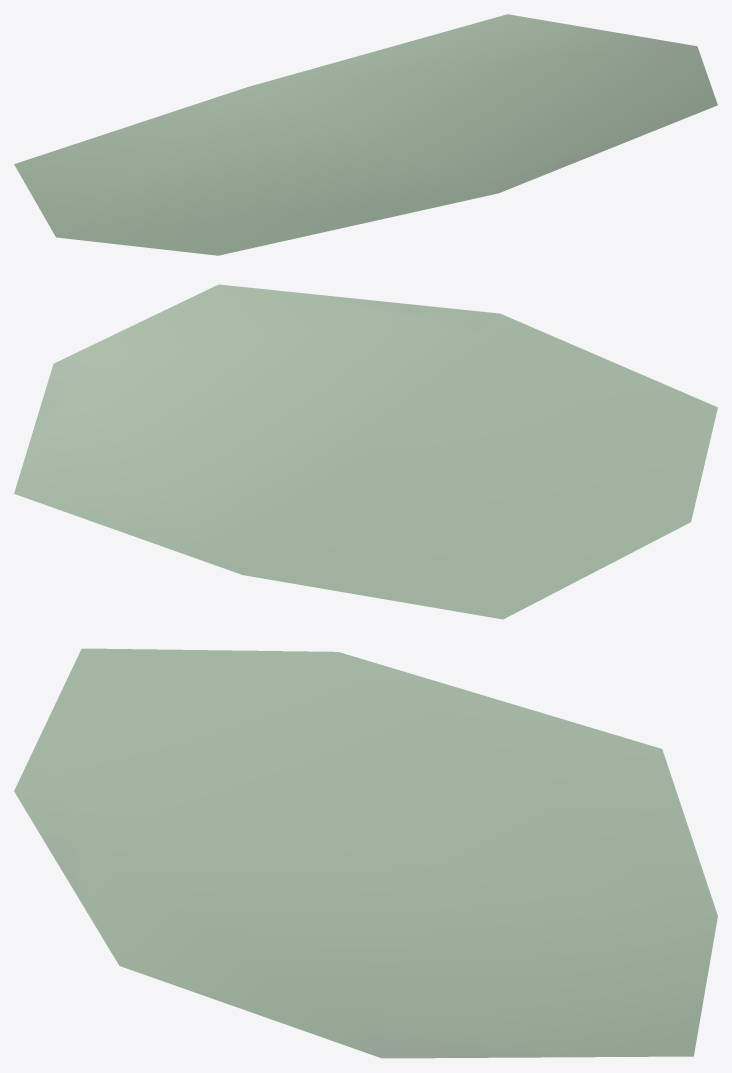
File: TROLLHOLE02_HOLECAP31.fbx
The picture shows the model from 3 angles, top to bottom: view 1: azimuth 30°, elevation 25°; view 2: azimuth 150°, elevation 25°; view 3: azimuth 270°, elevation 25°; orthographic projection. The views are drawn at different scales.
Visible parts, largest first — view 1: TROLLHOLE02_HOLECAP31; view 2: TROLLHOLE02_HOLECAP31; view 3: TROLLHOLE02_HOLECAP31.
Boxes of the visible parts, x1=… form: TROLLHOLE02_HOLECAP31: x1=14, y1=14, x2=717, y2=255; TROLLHOLE02_HOLECAP31: x1=14, y1=284, x2=717, y2=619; TROLLHOLE02_HOLECAP31: x1=14, y1=648, x2=717, y2=1058.
Bounding box in the file's own units: 28597 × 3641 × 19694.
Materials: 1 (1 with a texture image).
